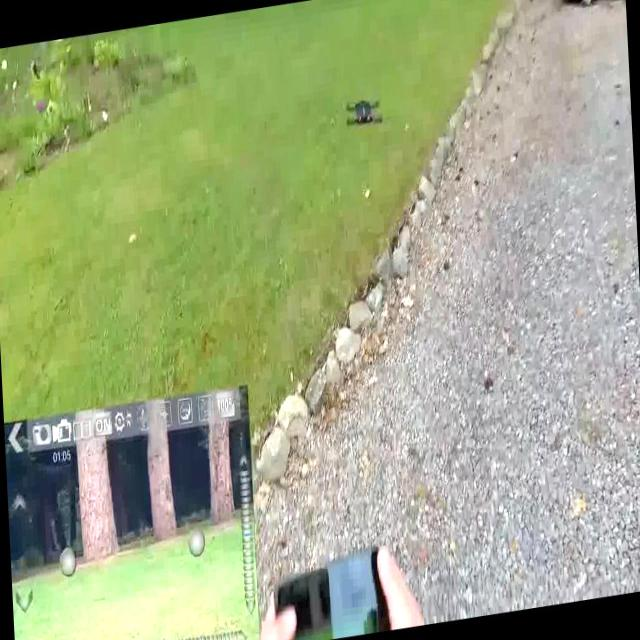drone: (339, 85, 387, 140)
